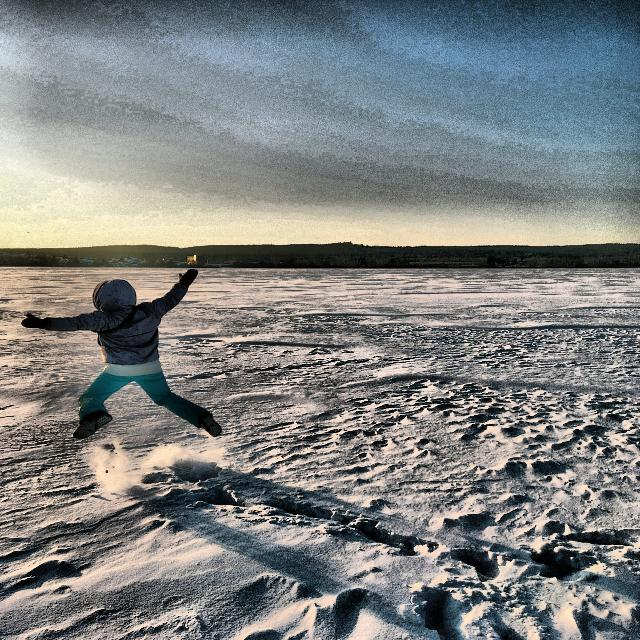Human: (26, 270, 246, 446)
